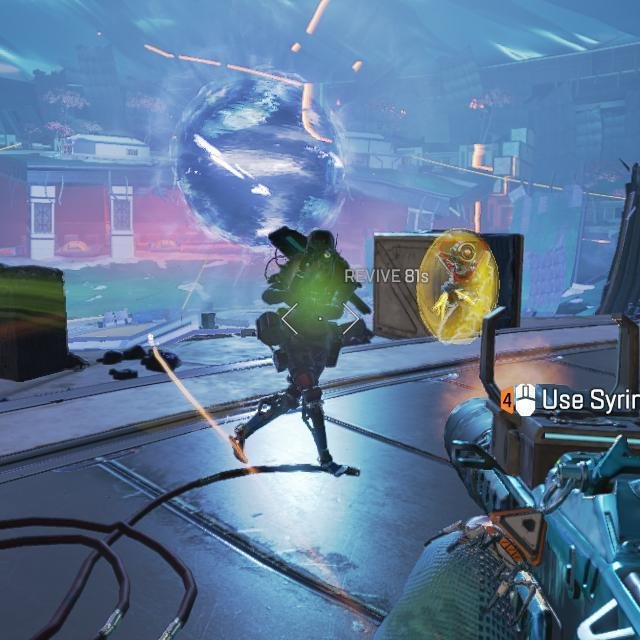avatar: (227, 227, 373, 477)
object: (283, 258, 350, 334)
